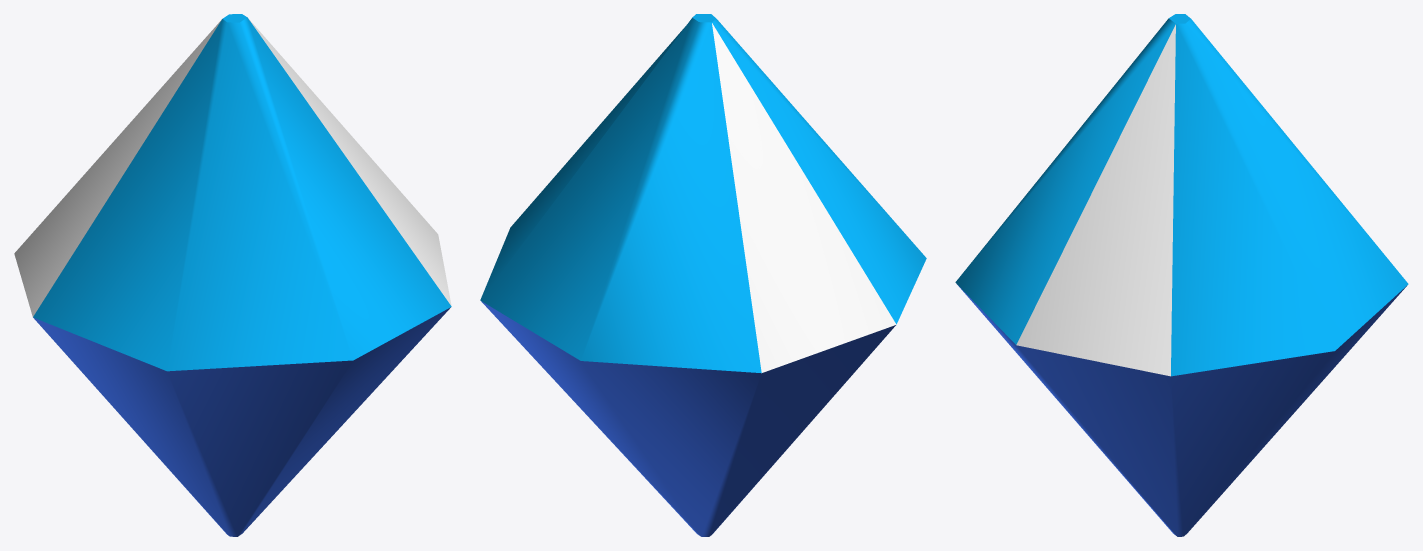
Rendered from Crystal.fbx.
3 renders of one model, left to right at view 1: azimuth 30°, elevation 25°; view 2: azimuth 150°, elevation 25°; view 3: azimuth 270°, elevation 25°, orthographic.
Parts seen in each view (by area): view 1: Crystal; view 2: Crystal; view 3: Crystal.
Boxes of the visible parts, x1=… form: Crystal: x1=14, y1=14, x2=451, y2=536; Crystal: x1=480, y1=14, x2=926, y2=536; Crystal: x1=955, y1=14, x2=1408, y2=536.
Bounding box in the file's own units: 32.61 × 40.63 × 32.41.
